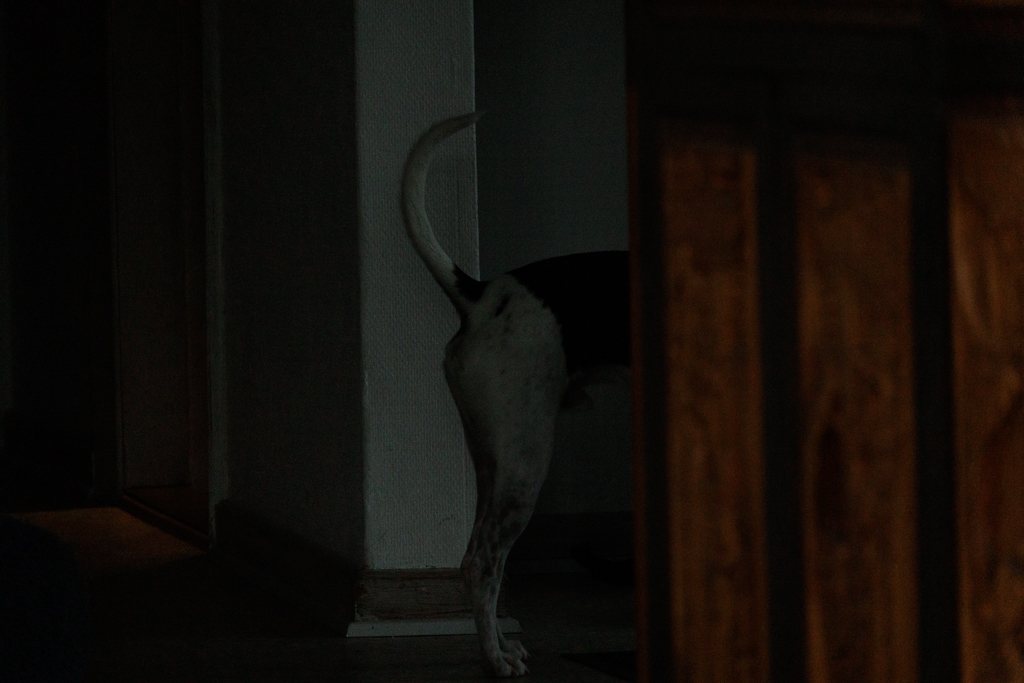Dog: (388, 100, 705, 683)
